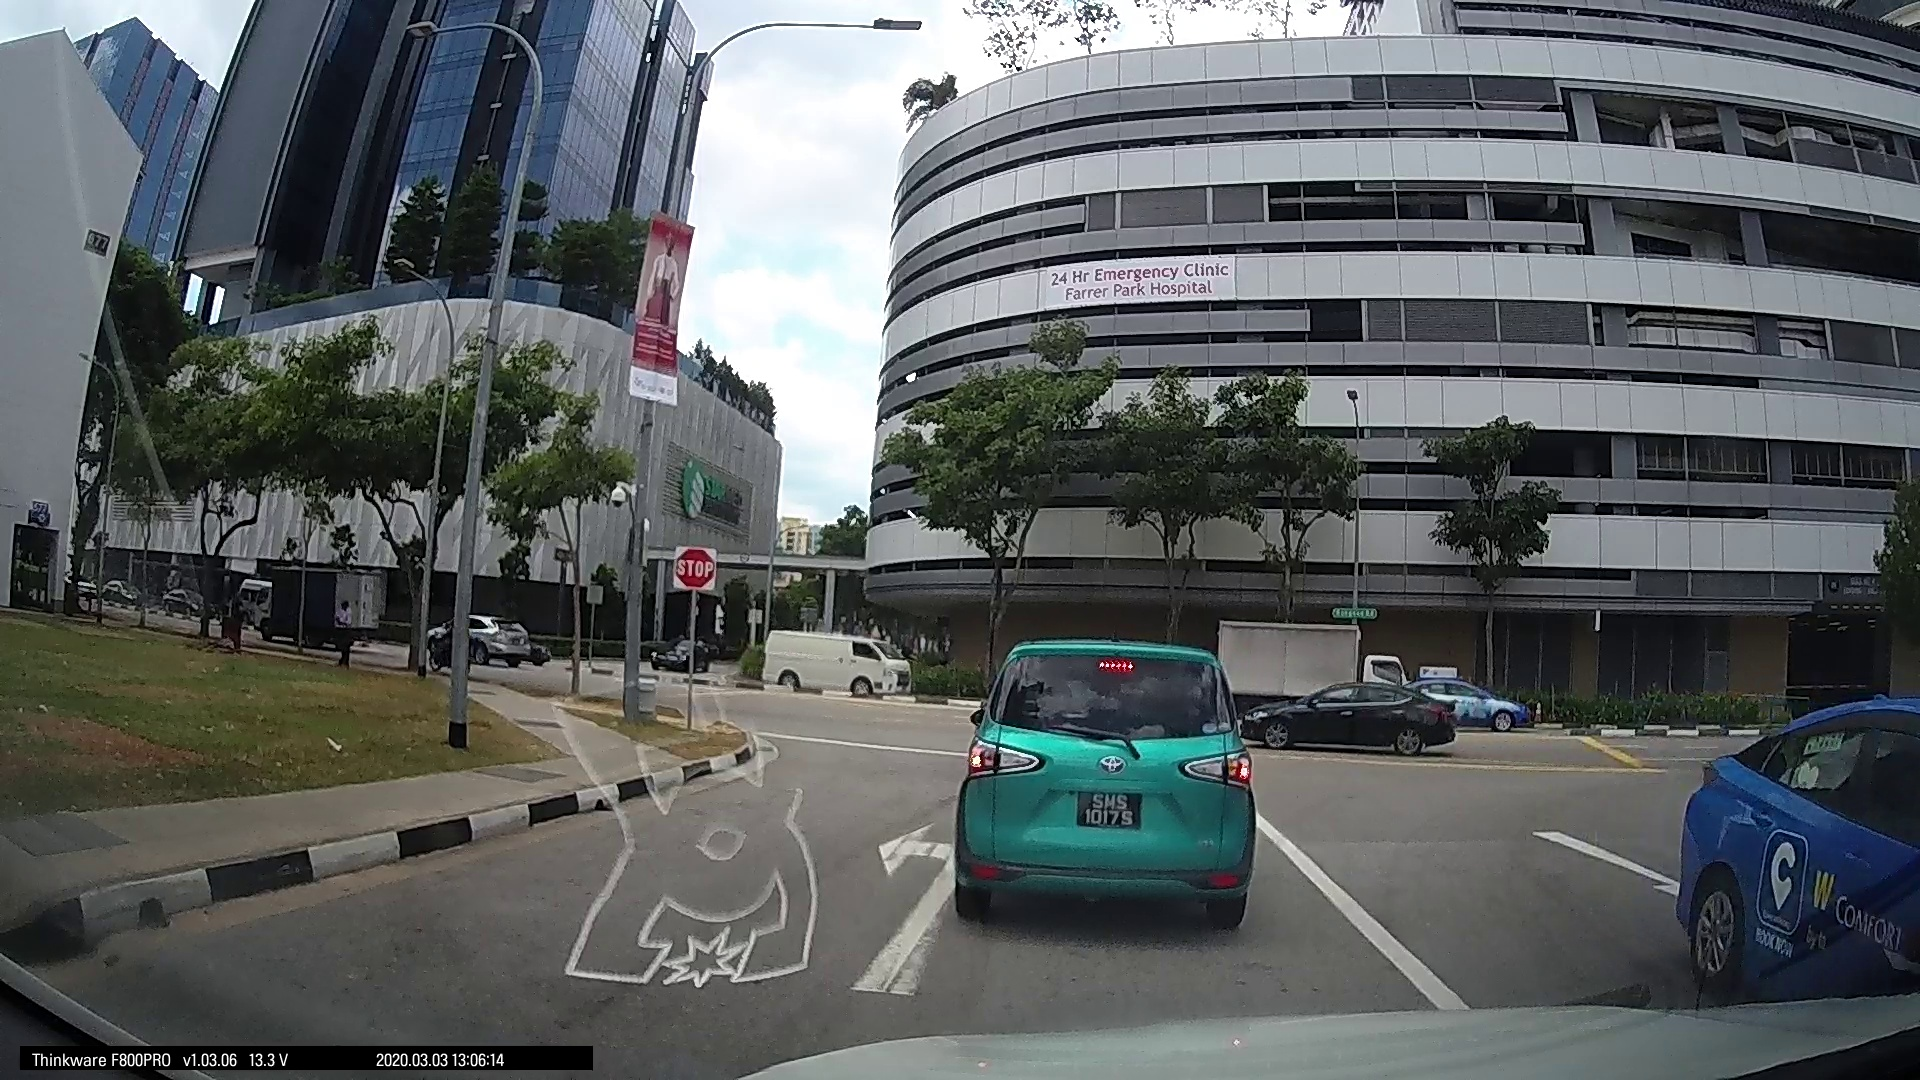Light Vehicle: (949, 620, 1254, 934), (1667, 695, 1919, 1011), (1244, 673, 1461, 753), (744, 625, 910, 698), (1404, 669, 1530, 731), (448, 612, 543, 667)
